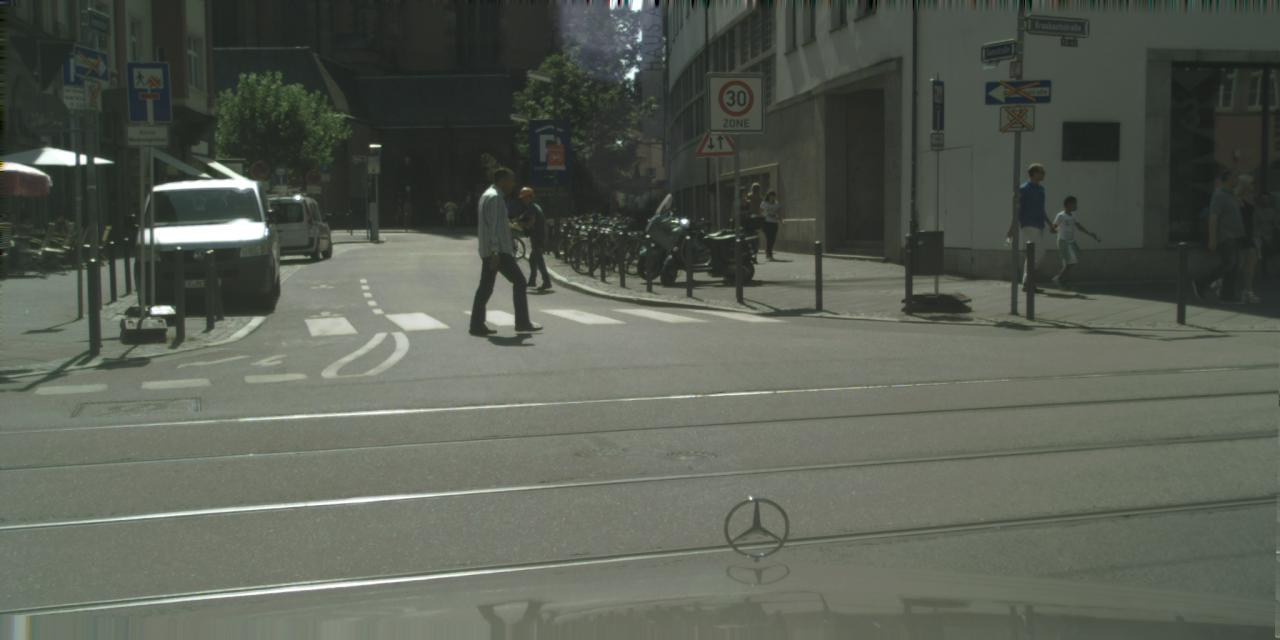ped: (471, 167, 538, 332), (1195, 167, 1250, 301), (1007, 163, 1059, 292), (1214, 173, 1264, 298), (1201, 179, 1249, 296), (508, 185, 550, 288), (1048, 195, 1088, 291), (1247, 192, 1279, 282), (756, 189, 784, 260), (739, 182, 768, 250), (727, 186, 754, 253), (633, 190, 649, 230), (606, 194, 622, 232), (500, 195, 515, 233), (624, 194, 639, 230), (598, 198, 612, 230), (443, 198, 456, 229), (401, 201, 412, 227), (433, 201, 443, 227), (466, 200, 476, 226), (456, 202, 466, 227), (394, 204, 402, 225)
